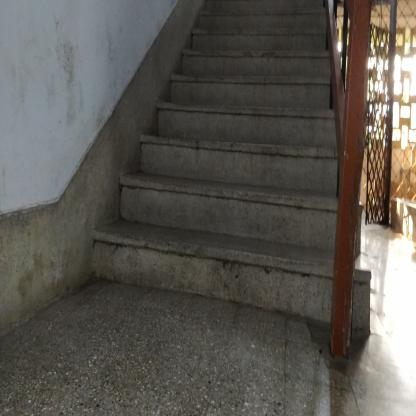stairs: (213, 11, 326, 323)
